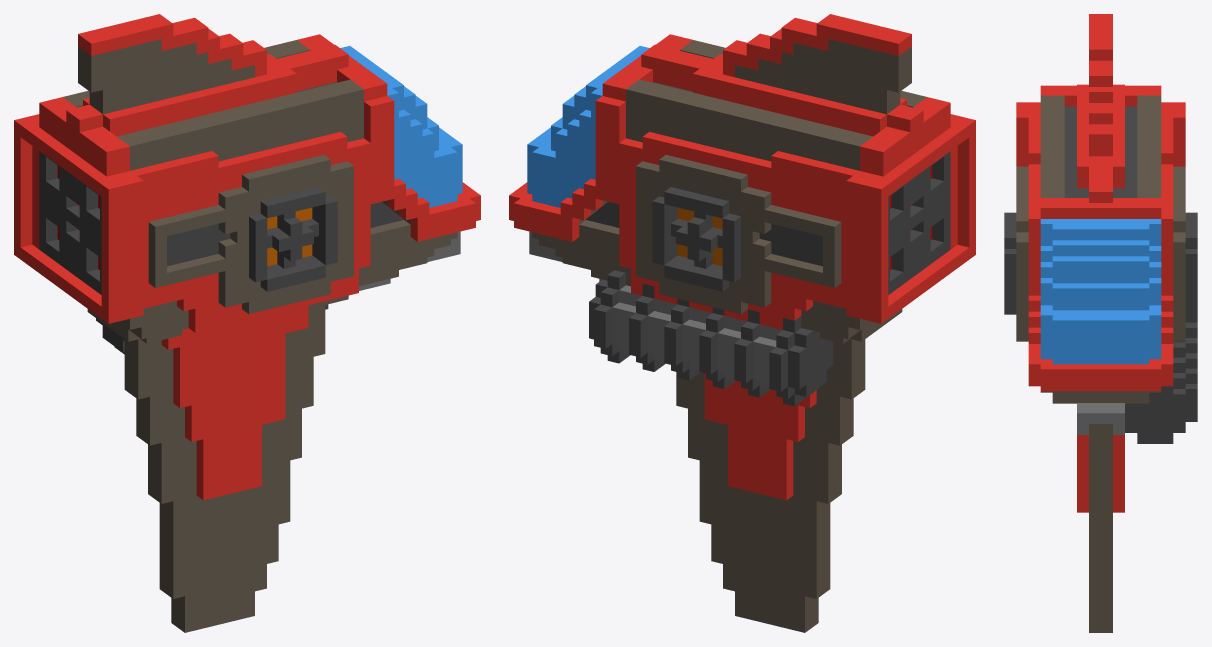
Rendered from ShipBody1.obj.
3 views of the same model, side by side, from view 1: azimuth 30°, elevation 25°; view 2: azimuth 150°, elevation 25°; view 3: azimuth 270°, elevation 25° (orthographic). The views are drawn at different scales.
Bounding box in the file's own units: 3.3 × 5 × 1.6.
Materials: 1 (1 with a texture image).
